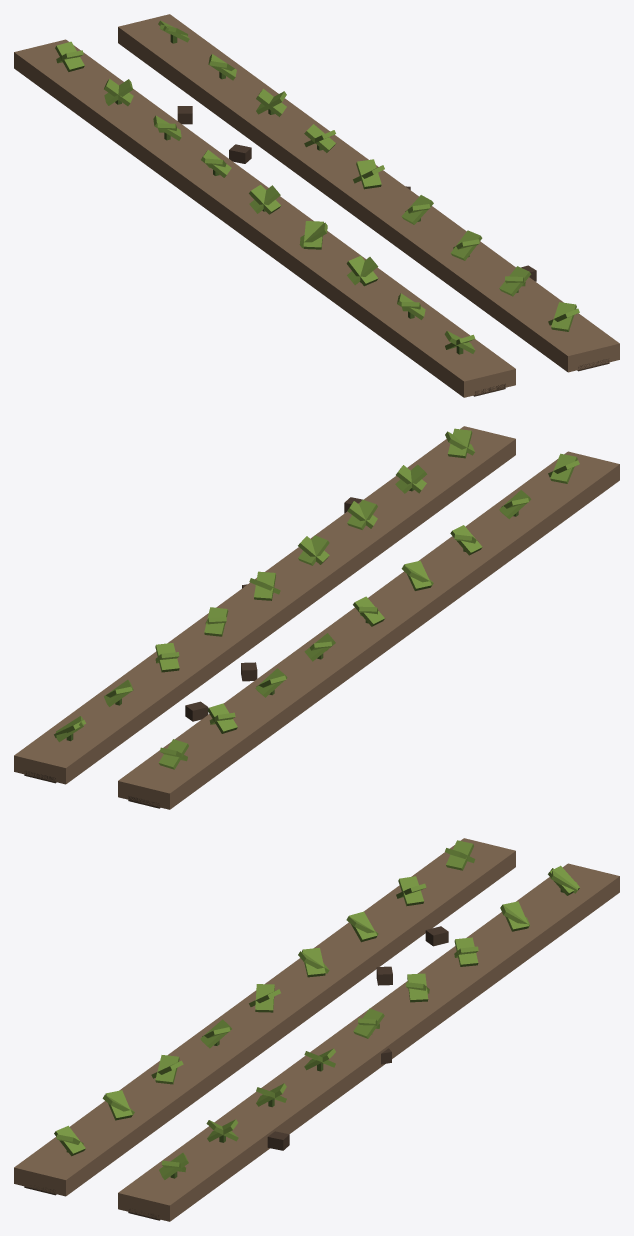
File: crop_sprouts.glb
3 views of the same model, one above another, from view 1: azimuth 30°, elevation 25°; view 2: azimuth 150°, elevation 25°; view 3: azimuth 330°, elevation 25° (orthographic).
Parts seen in each view (by area): view 1: room_crop_sprouts; view 2: room_crop_sprouts; view 3: room_crop_sprouts.
Boxes of the visible parts, left/top/right/bottom form: room_crop_sprouts: left=14, top=14, right=619, bottom=397; room_crop_sprouts: left=14, top=426, right=619, bottom=809; room_crop_sprouts: left=14, top=838, right=619, bottom=1221.
Size of the model in its own units: 0.658 by 0.1394 by 3.
